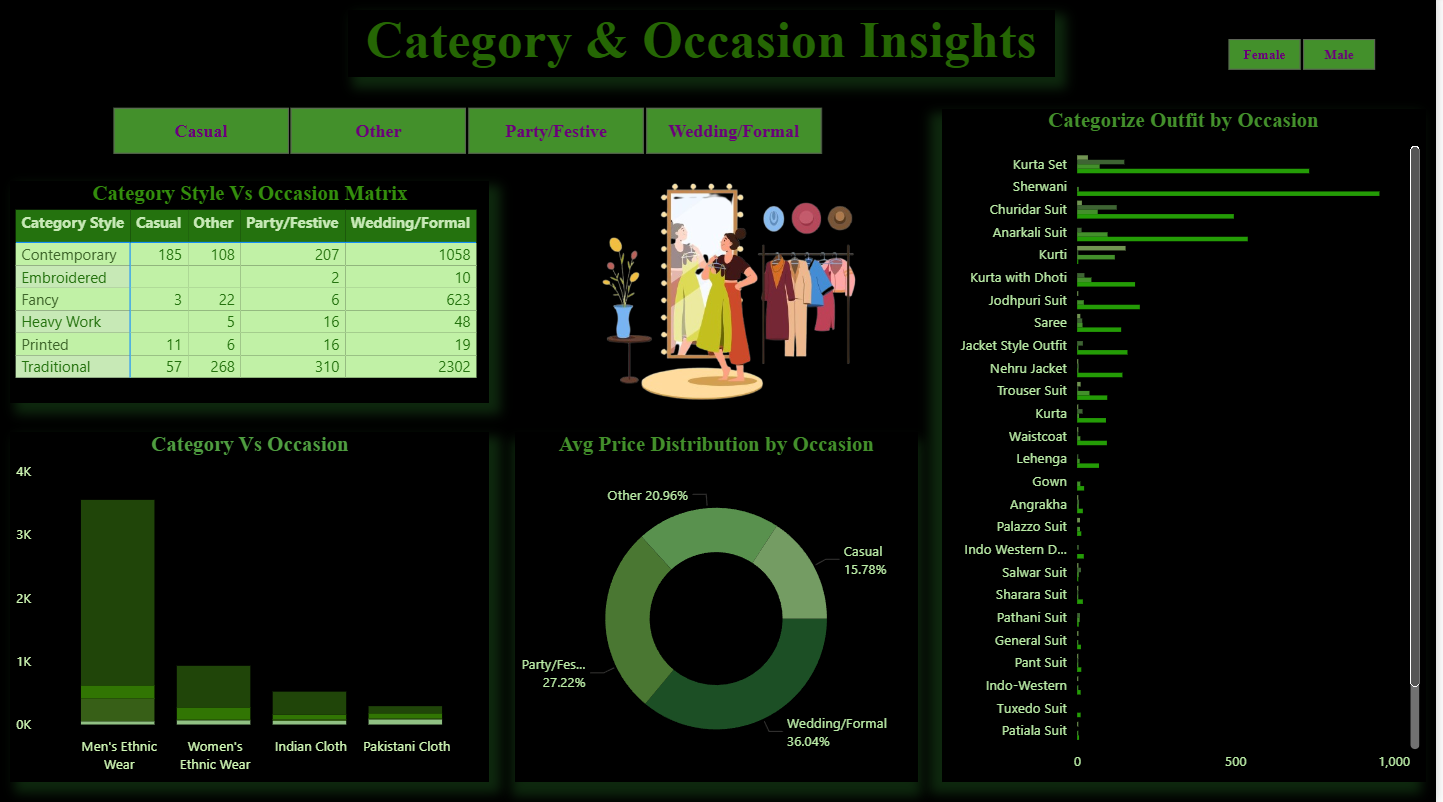

What the dashboard file says about the page in this screenshot:
{"tool":"powerbi","page":{"name":"Category & Occasion Insights","canvas":[1280,720],"ordinal":1},"visuals":[{"type":"textbox","title":"Category & Occasion Insights","box":[310.1,12.3,629.8,60.4],"z":0},{"type":"slicer","fields":{"Values":["Wardrobe Assistant.occasion"]},"box":[75.5,91.9,680.6,54.9],"z":1000},{"type":"columnChart","title":"Category Vs Occasion","fields":{"Category":["Wardrobe Assistant.main_category"],"Y":["Count(Wardrobe Assistant.product_name)"],"Series":["Wardrobe Assistant.occasion"]},"box":[9.6,388.3,426.8,311.5],"z":2000},{"type":"pivotTable","title":"Category Style Vs Occasion Matrix","fields":{"Rows":["Wardrobe Assistant.Category Style"],"Columns":["Wardrobe Assistant.occasion"],"Values":["Count(Wardrobe Assistant.product_name)"]},"box":[9.6,164.7,426.8,197.6],"z":3000},{"type":"clusteredBarChart","title":"Categorize Outfit by Occasion","fields":{"Category":["Wardrobe Assistant.categorize_outfit"],"Y":["Count(Wardrobe Assistant.product_name)"],"Series":["Wardrobe Assistant.occasion"]},"box":[839.8,100.2,430.9,599.7],"z":4000},{"type":"donutChart","title":"Avg Price Distribution by Occasion","fields":{"Category":["Wardrobe Assistant.occasion"],"Y":["Avg(Wardrobe Assistant.price_pkr)"]},"box":[459.7,388.3,358.1,311.5],"z":5000},{"type":"image","box":[480.3,146.8,348.5,231.9],"z":6000},{"type":"slicer","fields":{"Values":["Wardrobe Assistant.Gender"]},"box":[1069,31.6,181.1,41.2],"z":7000}]}

Visuals, with their boxes in screenshot pixels (x1, y1, x2, y2), scaled from the page's 1280x720 canvas onto the 1443x802 screenshot:
"Category & Occasion Insights" textbox: (350, 14, 1060, 81)
slicer - Wardrobe Assistant.occasion: (85, 102, 852, 164)
"Category Vs Occasion" columnChart: (11, 433, 492, 779)
"Category Style Vs Occasion Matrix" pivotTable: (11, 183, 492, 404)
"Categorize Outfit by Occasion" clusteredBarChart: (947, 112, 1433, 780)
"Avg Price Distribution by Occasion" donutChart: (518, 433, 922, 779)
image: (541, 164, 934, 422)
slicer - Wardrobe Assistant.Gender: (1205, 35, 1409, 81)
